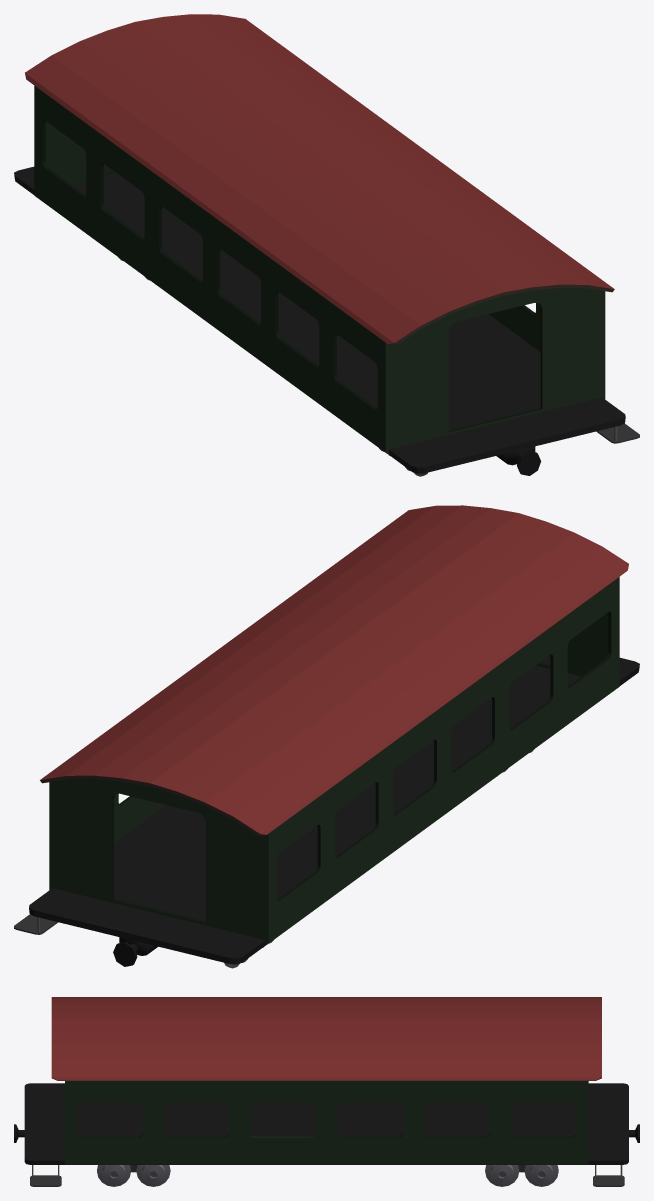
Rendered from TrainCarriage.fbx.
The picture shows the model from 3 angles, top to bottom: view 1: azimuth 30°, elevation 25°; view 2: azimuth 150°, elevation 25°; view 3: azimuth 270°, elevation 25°; orthographic projection. The views are drawn at different scales.
Visible parts, largest first — view 1: CarriageBody; view 2: CarriageBody; view 3: CarriageBody, TrainWheels_Small_B1, TrainWheels_Small_F1, TrainWheels_Small_F2, TrainWheels_Small_B2.
Part boxes in pixels (left/top/right/bottom): CarriageBody: left=14, top=14, right=639, bottom=475; CarriageBody: left=14, top=505, right=639, bottom=966; CarriageBody: left=14, top=997, right=639, bottom=1186; TrainWheels_Small_B1: left=136, top=1165, right=170, bottom=1186; TrainWheels_Small_F1: left=524, top=1165, right=558, bottom=1186; TrainWheels_Small_F2: left=485, top=1165, right=519, bottom=1186; TrainWheels_Small_B2: left=97, top=1165, right=130, bottom=1186.
Bounding box in the file's own units: 3.76 × 3.08 × 11.59.
